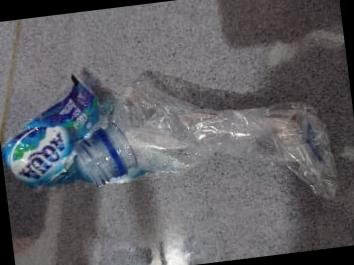Plastik: (113, 74, 276, 175), (1, 74, 146, 186), (259, 104, 336, 198)
